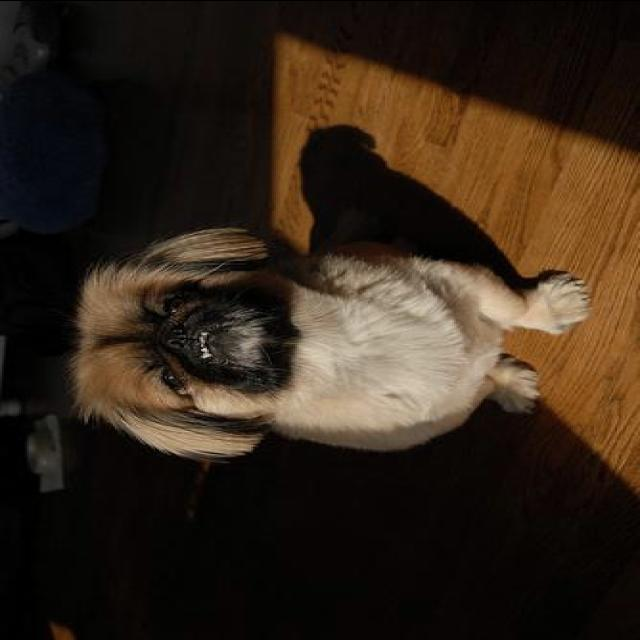pekinese: (64, 222, 596, 468)
